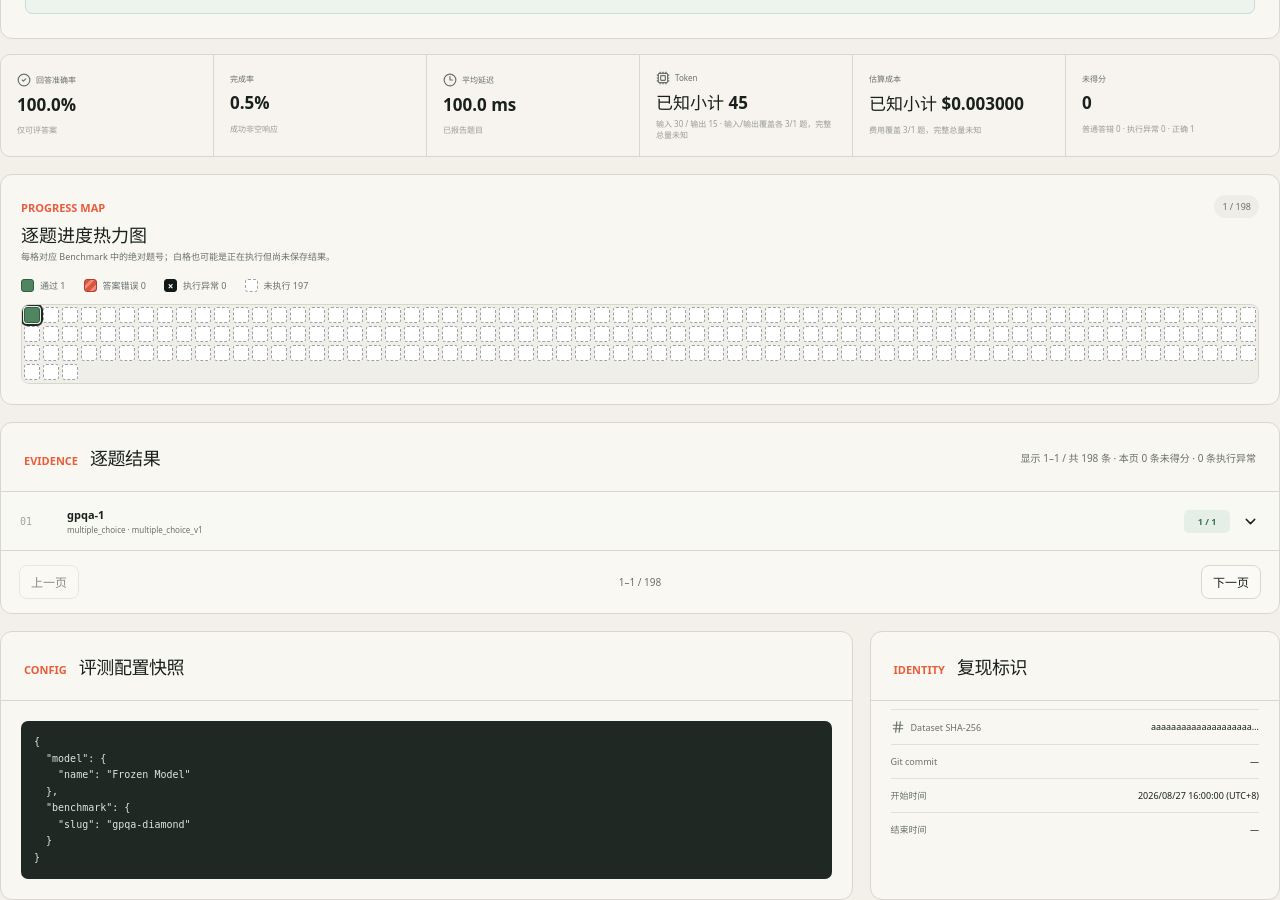
Scenario: RunDetailPage › keeps evidence page two selected while a progress block updates
The image size is (1280, 900).
(page scrolled)
Expected: the heading "逐题进度热力图" is shown, [21, 222, 147, 246]
Step 1. Click the button "下一页" → (1231, 582), box [1201, 566, 1261, 600]
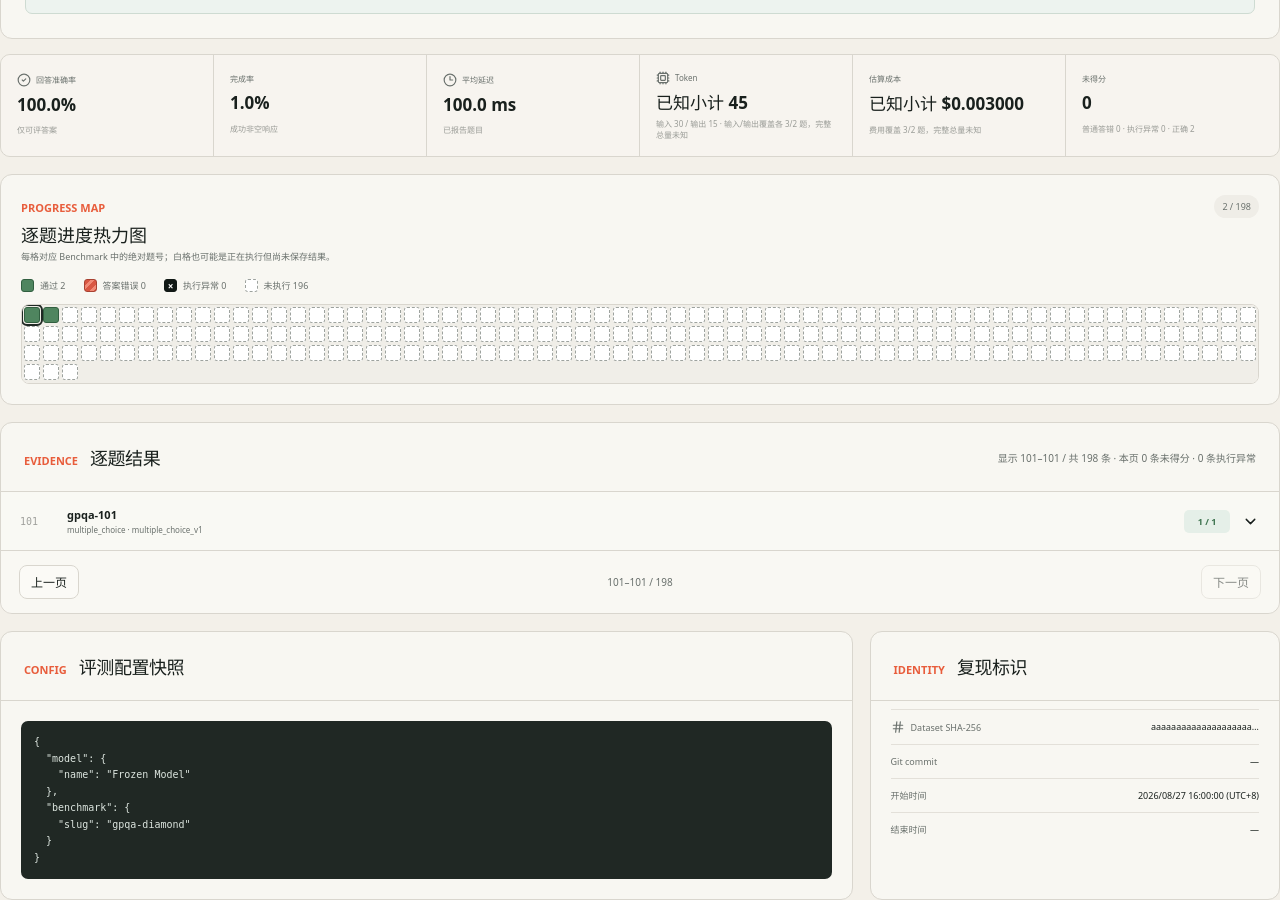
Expected: the text "通过 2" is shown, [21, 280, 66, 292]
Expected: the text "gpqa-101" is shown, [67, 508, 117, 522]
